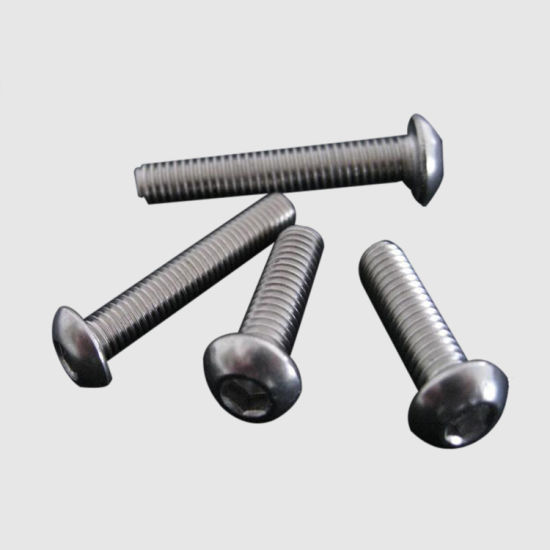socket screw: (46, 187, 299, 392), (352, 233, 514, 455), (128, 108, 450, 211)
